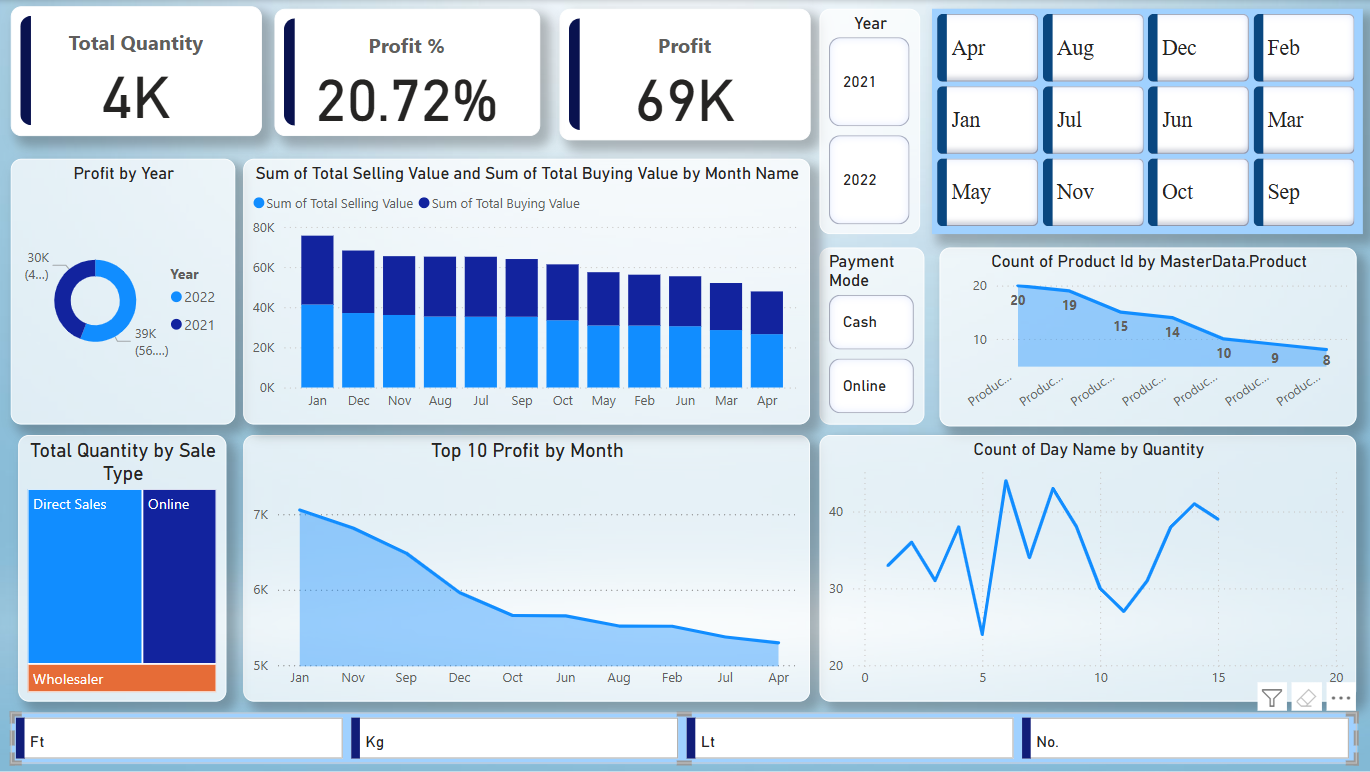

The page's visual inventory and layout, read from the dashboard file:
{"tool":"powerbi","page":{"name":"Page 1","canvas":[1280,720],"ordinal":0},"visuals":[{"type":"advancedSlicerVisual","fields":{"Values":["InputData.Month Name"]},"box":[870,8.2,400.7,209.9],"z":0},{"type":"cardVisual","fields":{"Data":["Sum(InputData.QUANTITY)"]},"box":[12.3,5.5,233.3,120.8],"z":1000},{"type":"cardVisual","fields":{"Data":["InputData.Profit"]},"box":[522.8,8.2,233.3,122.1],"z":2000},{"type":"cardVisual","fields":{"Data":["InputData.Profit %"]},"box":[258,8.2,247,118],"z":3000},{"type":"advancedSlicerVisual","title":"Payment Mode","fields":{"Values":["InputData.PAYMENT MODE"]},"box":[765.7,230.5,97.4,164.7],"z":4000},{"type":"areaChart","fields":{"Category":["InputData.Month Name"],"Y":["InputData.Profit"]},"box":[229.2,404.8,526.9,248.4],"z":5000},{"type":"donutChart","fields":{"Y":["InputData.Profit"],"Category":["InputData.Year"]},"box":[12.3,148.2,208.6,247],"z":6000},{"type":"treemap","fields":{"Group":["InputData.SALE TYPE"],"Values":["Sum(InputData.QUANTITY)"]},"box":[19.2,404.8,193.5,248.4],"z":7000},{"type":"lineStackedColumnComboChart","fields":{"Y":["Sum(InputData.Total Selling Value)","Sum(InputData.Total Buying Value)"],"Category":["InputData.Month Name"]},"box":[229.2,148.2,526.9,247],"z":8000},{"type":"areaChart","fields":{"Category":["InputData.MasterData.PRODUCT"],"Y":["CountNonNull(InputData.PRODUCT ID)"]},"box":[876.8,230.5,388.3,166],"z":9000},{"type":"advancedSlicerVisual","fields":{"Values":["InputData.Year"]},"box":[765.7,8.2,93.3,209.9],"z":10000},{"type":"lineChart","fields":{"Y":["CountNonNull(InputData.Day Name)"],"Category":["InputData.QUANTITY"]},"box":[765.7,404.8,499.5,248.4],"z":11000},{"type":"advancedSlicerVisual","fields":{"Values":["InputData.MasterData.UOM"]},"box":[12.3,662.8,1252.8,48],"z":12000}]}

Visuals, with their boxes in screenshot pixels (x1, y1, x2, y2), scaled from the page's 1280x720 canvas onto the 1370x772 screenshot:
advancedSlicerVisual - InputData.Month Name: <region>931, 9, 1360, 234</region>
cardVisual - Sum(InputData.QUANTITY): <region>13, 6, 263, 135</region>
cardVisual - InputData.Profit: <region>560, 9, 809, 140</region>
cardVisual - InputData.Profit %: <region>276, 9, 541, 135</region>
"Payment Mode" advancedSlicerVisual: <region>820, 247, 924, 424</region>
areaChart - InputData.Month Name x InputData.Profit: <region>245, 434, 809, 700</region>
donutChart - InputData.Profit x InputData.Year: <region>13, 159, 236, 424</region>
treemap - InputData.SALE TYPE x Sum(InputData.QUANTITY): <region>21, 434, 228, 700</region>
lineStackedColumnComboChart - Sum(InputData.Total Selling Value) x Sum(InputData.Total Buying Value): <region>245, 159, 809, 424</region>
areaChart - InputData.MasterData.PRODUCT x CountNonNull(InputData.PRODUCT ID): <region>938, 247, 1354, 425</region>
advancedSlicerVisual - InputData.Year: <region>820, 9, 919, 234</region>
lineChart - CountNonNull(InputData.Day Name) x InputData.QUANTITY: <region>820, 434, 1354, 700</region>
advancedSlicerVisual - InputData.MasterData.UOM: <region>13, 711, 1354, 762</region>
